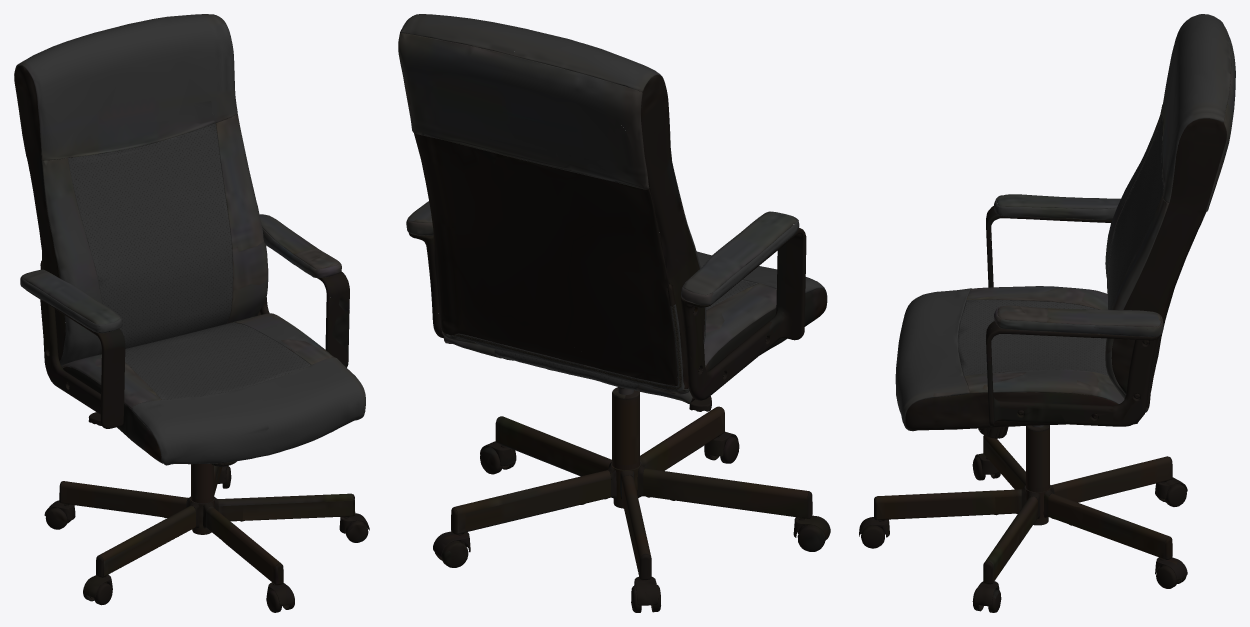
Rendered from millberget_krzeso_obrotowe_70489394.glb.
The picture shows the model from 3 angles, left to right: view 1: azimuth 30°, elevation 25°; view 2: azimuth 150°, elevation 25°; view 3: azimuth 270°, elevation 25°; orthographic projection. The views are drawn at different scales.
Parts seen in each view (by area): view 1: millberget_krzeso_obrotowe_70489394; view 2: millberget_krzeso_obrotowe_70489394; view 3: millberget_krzeso_obrotowe_70489394.
Boxes of the visible parts, x1,y1,x2,y2 form: millberget_krzeso_obrotowe_70489394: (14, 14, 369, 612); millberget_krzeso_obrotowe_70489394: (398, 14, 830, 612); millberget_krzeso_obrotowe_70489394: (859, 14, 1235, 612).
Bounding box in the file's own units: 0.7138 × 1.12 × 0.7801.
2 materials, 2 textured.
